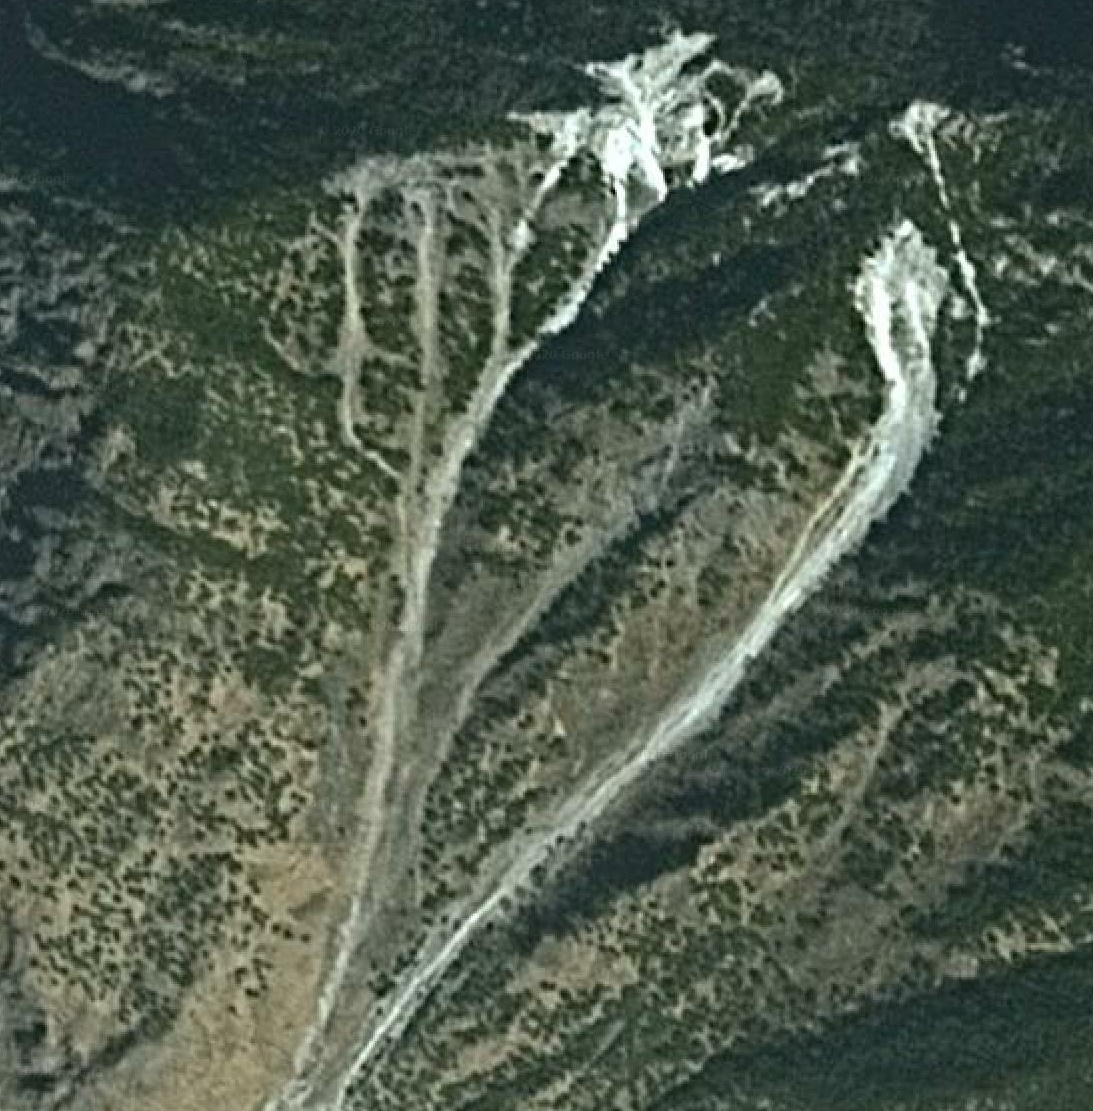slope: (501, 26, 789, 332), (766, 211, 985, 600), (893, 89, 1002, 188)
